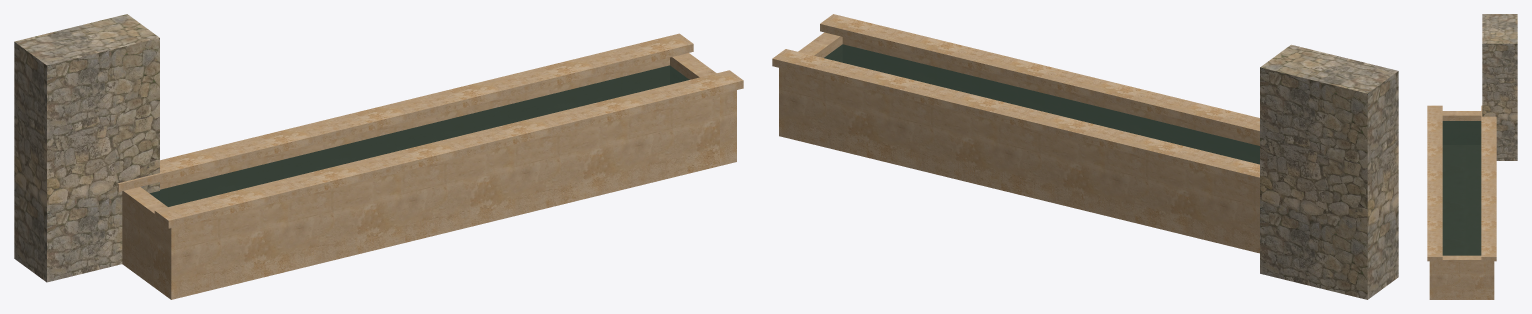
The model's file is abrevadero.glb.
3 views of the same model, side by side, from view 1: azimuth 30°, elevation 25°; view 2: azimuth 150°, elevation 25°; view 3: azimuth 270°, elevation 25° (orthographic). The views are drawn at different scales.
Bounding box in the file's own units: 6.85 × 2.2 × 1.54.
4 materials, 3 textured.
